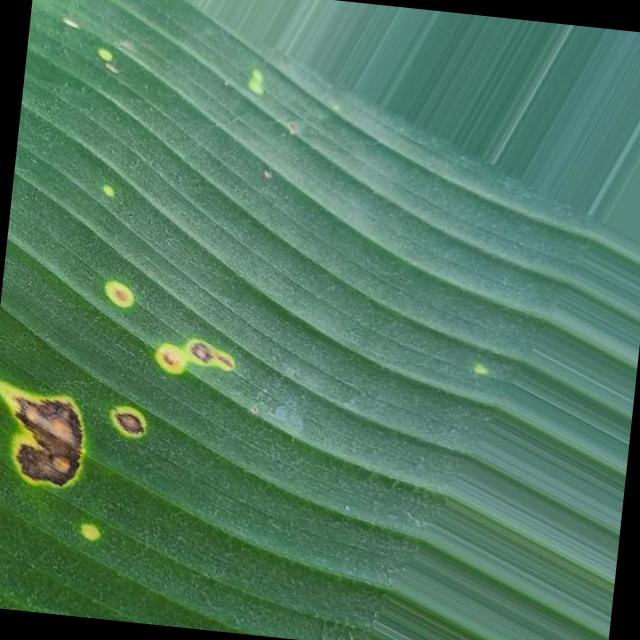Banana_Black_Sigatoka: (0, 275, 251, 562)
